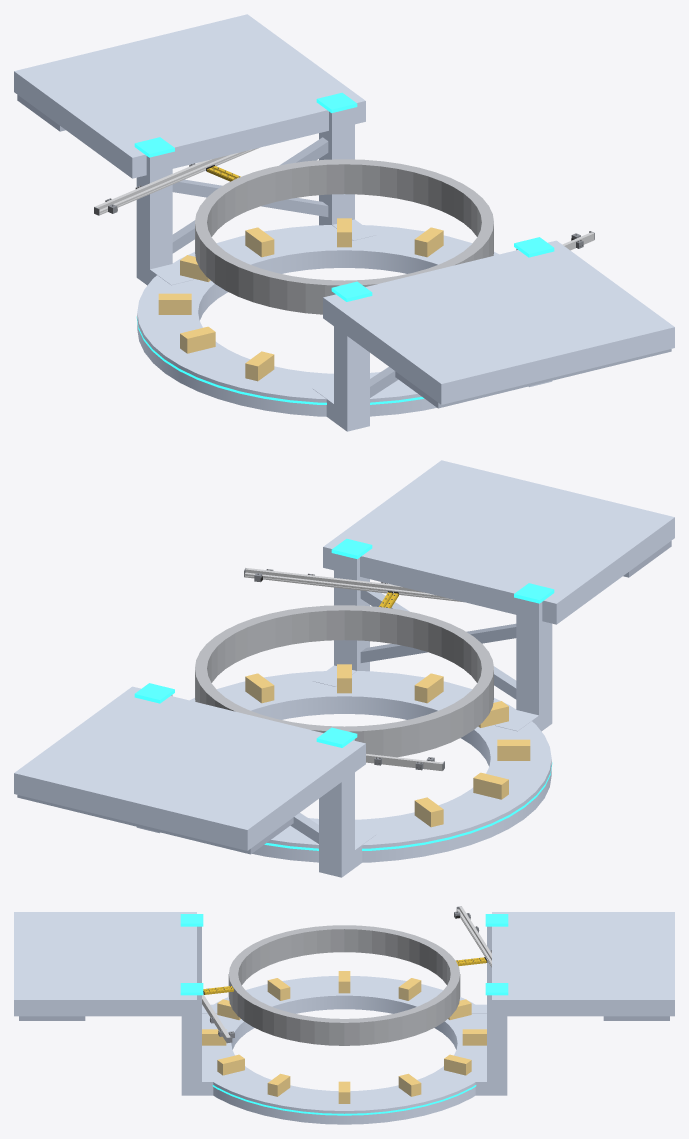
The model's file is booster_cradle_st10b_9015e139.glb.
The picture shows the model from 3 angles, top to bottom: view 1: azimuth 30°, elevation 25°; view 2: azimuth 150°, elevation 25°; view 3: azimuth 270°, elevation 25°; orthographic projection. The views are drawn at different scales.
Parts seen in each view (by area): view 1: Cradle, CS_CollarHalf_A, CS_CollarHalf_B, CS_CollarRails; view 2: Cradle, CS_CollarHalf_B, CS_CollarHalf_A, CS_CollarRails; view 3: Cradle, CS_CollarHalf_A, CS_CollarHalf_B, CS_CollarRails.
Part boxes in pixels (x1=…): Cradle: x1=14, y1=14, x2=674, y2=431; CS_CollarHalf_A: x1=210, y1=159, x2=493, y2=266; CS_CollarHalf_B: x1=195, y1=166, x2=448, y2=314; CS_CollarRails: x1=94, y1=147, x2=594, y2=250; Cradle: x1=14, y1=460, x2=674, y2=877; CS_CollarHalf_B: x1=306, y1=591, x2=493, y2=757; CS_CollarHalf_A: x1=195, y1=591, x2=392, y2=728; CS_CollarRails: x1=244, y1=568, x2=463, y2=770; Cradle: x1=14, y1=912, x2=674, y2=1124; CS_CollarHalf_A: x1=203, y1=959, x2=487, y2=1045; CS_CollarHalf_B: x1=203, y1=925, x2=486, y2=1008; CS_CollarRails: x1=202, y1=906, x2=491, y2=1043.
Bounding box in the file's own units: 12.64 × 4.5 × 26.
